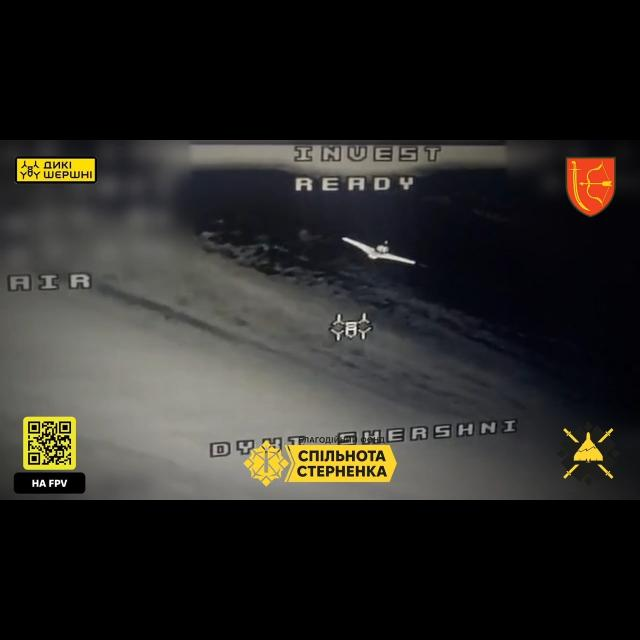Gerbera: (342, 236, 421, 266)
